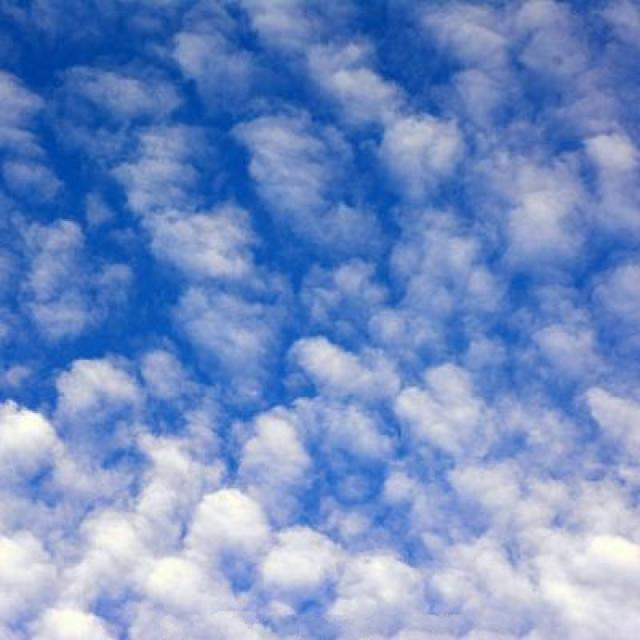Cc: (1, 38, 640, 640)
